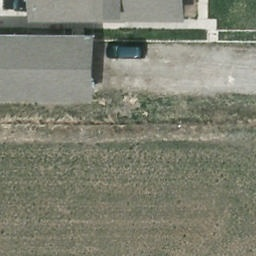car: (106, 44, 146, 61), (3, 1, 26, 13)
